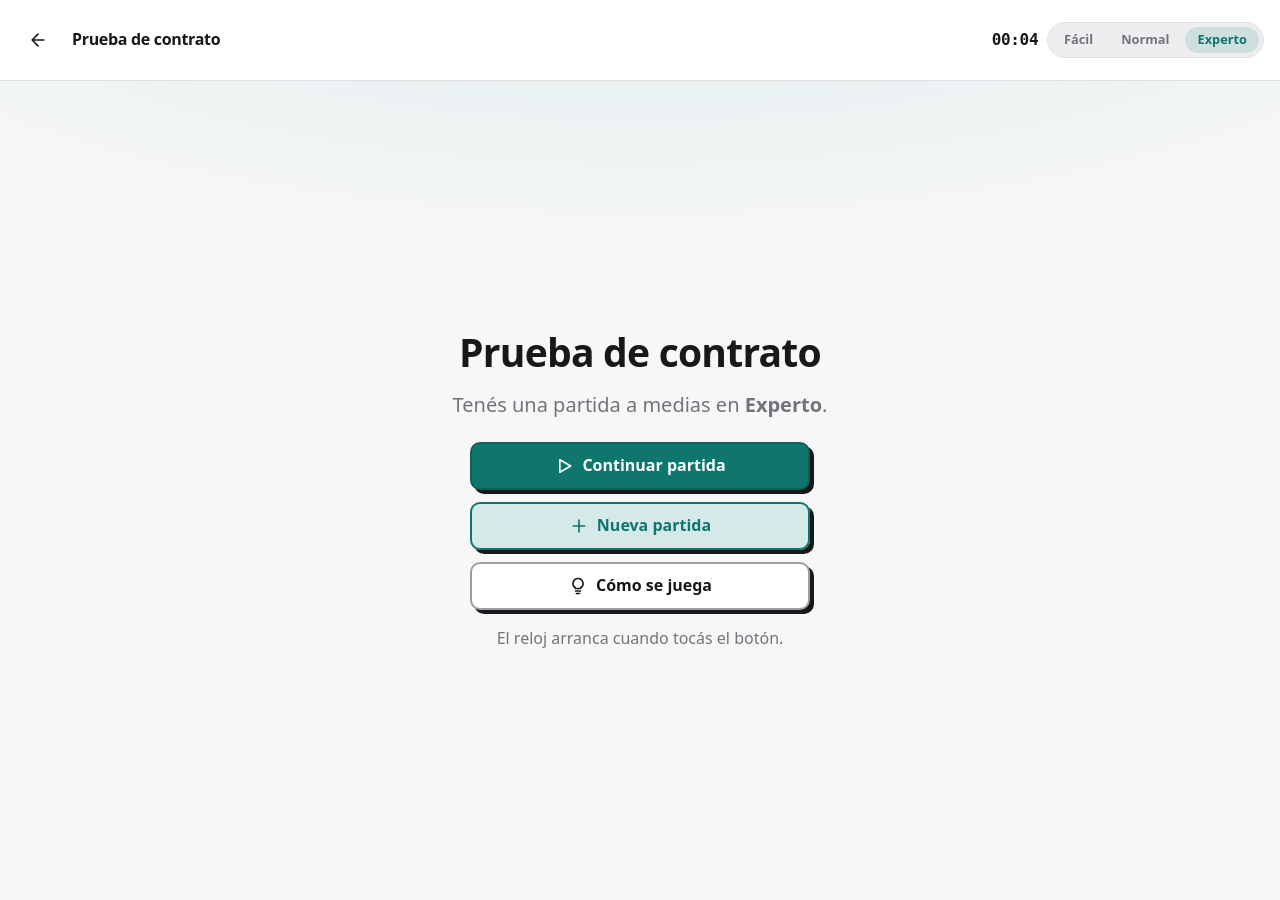
Test: the choice persists › lets a saved board win over the remembered level
The image size is (1280, 900).
Click the button "Continuar partida" at [640, 466], box [470,442,810,490]
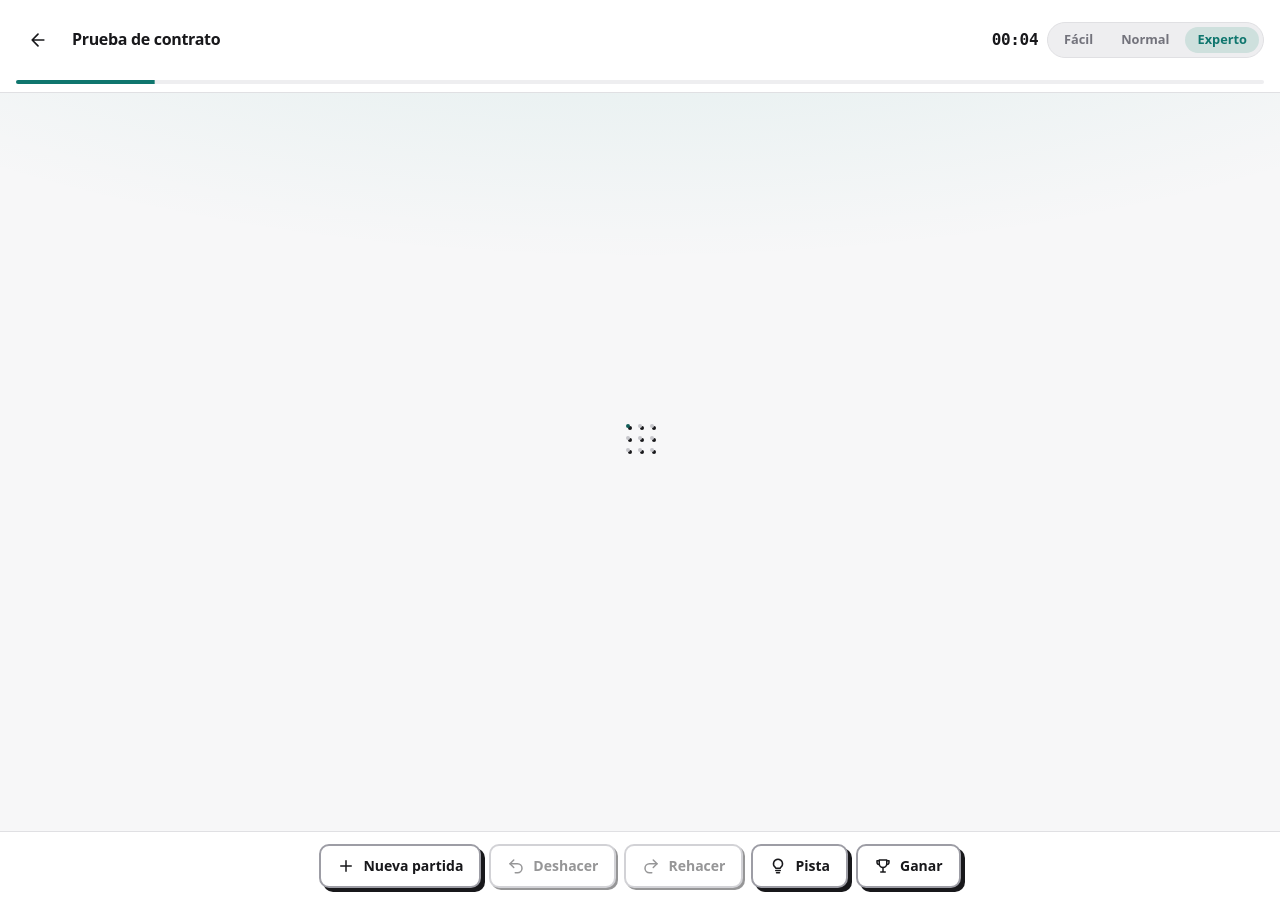
Expected: the number of buttons named "Casilla" is 9
